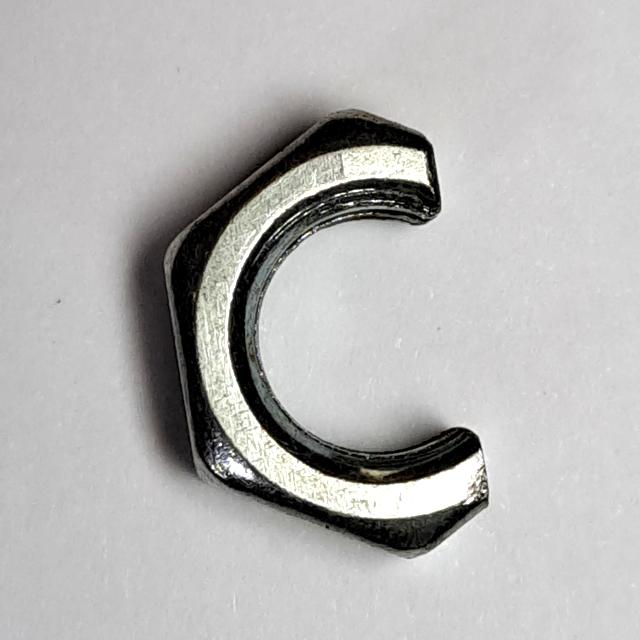Fracture: (145, 96, 513, 573)
